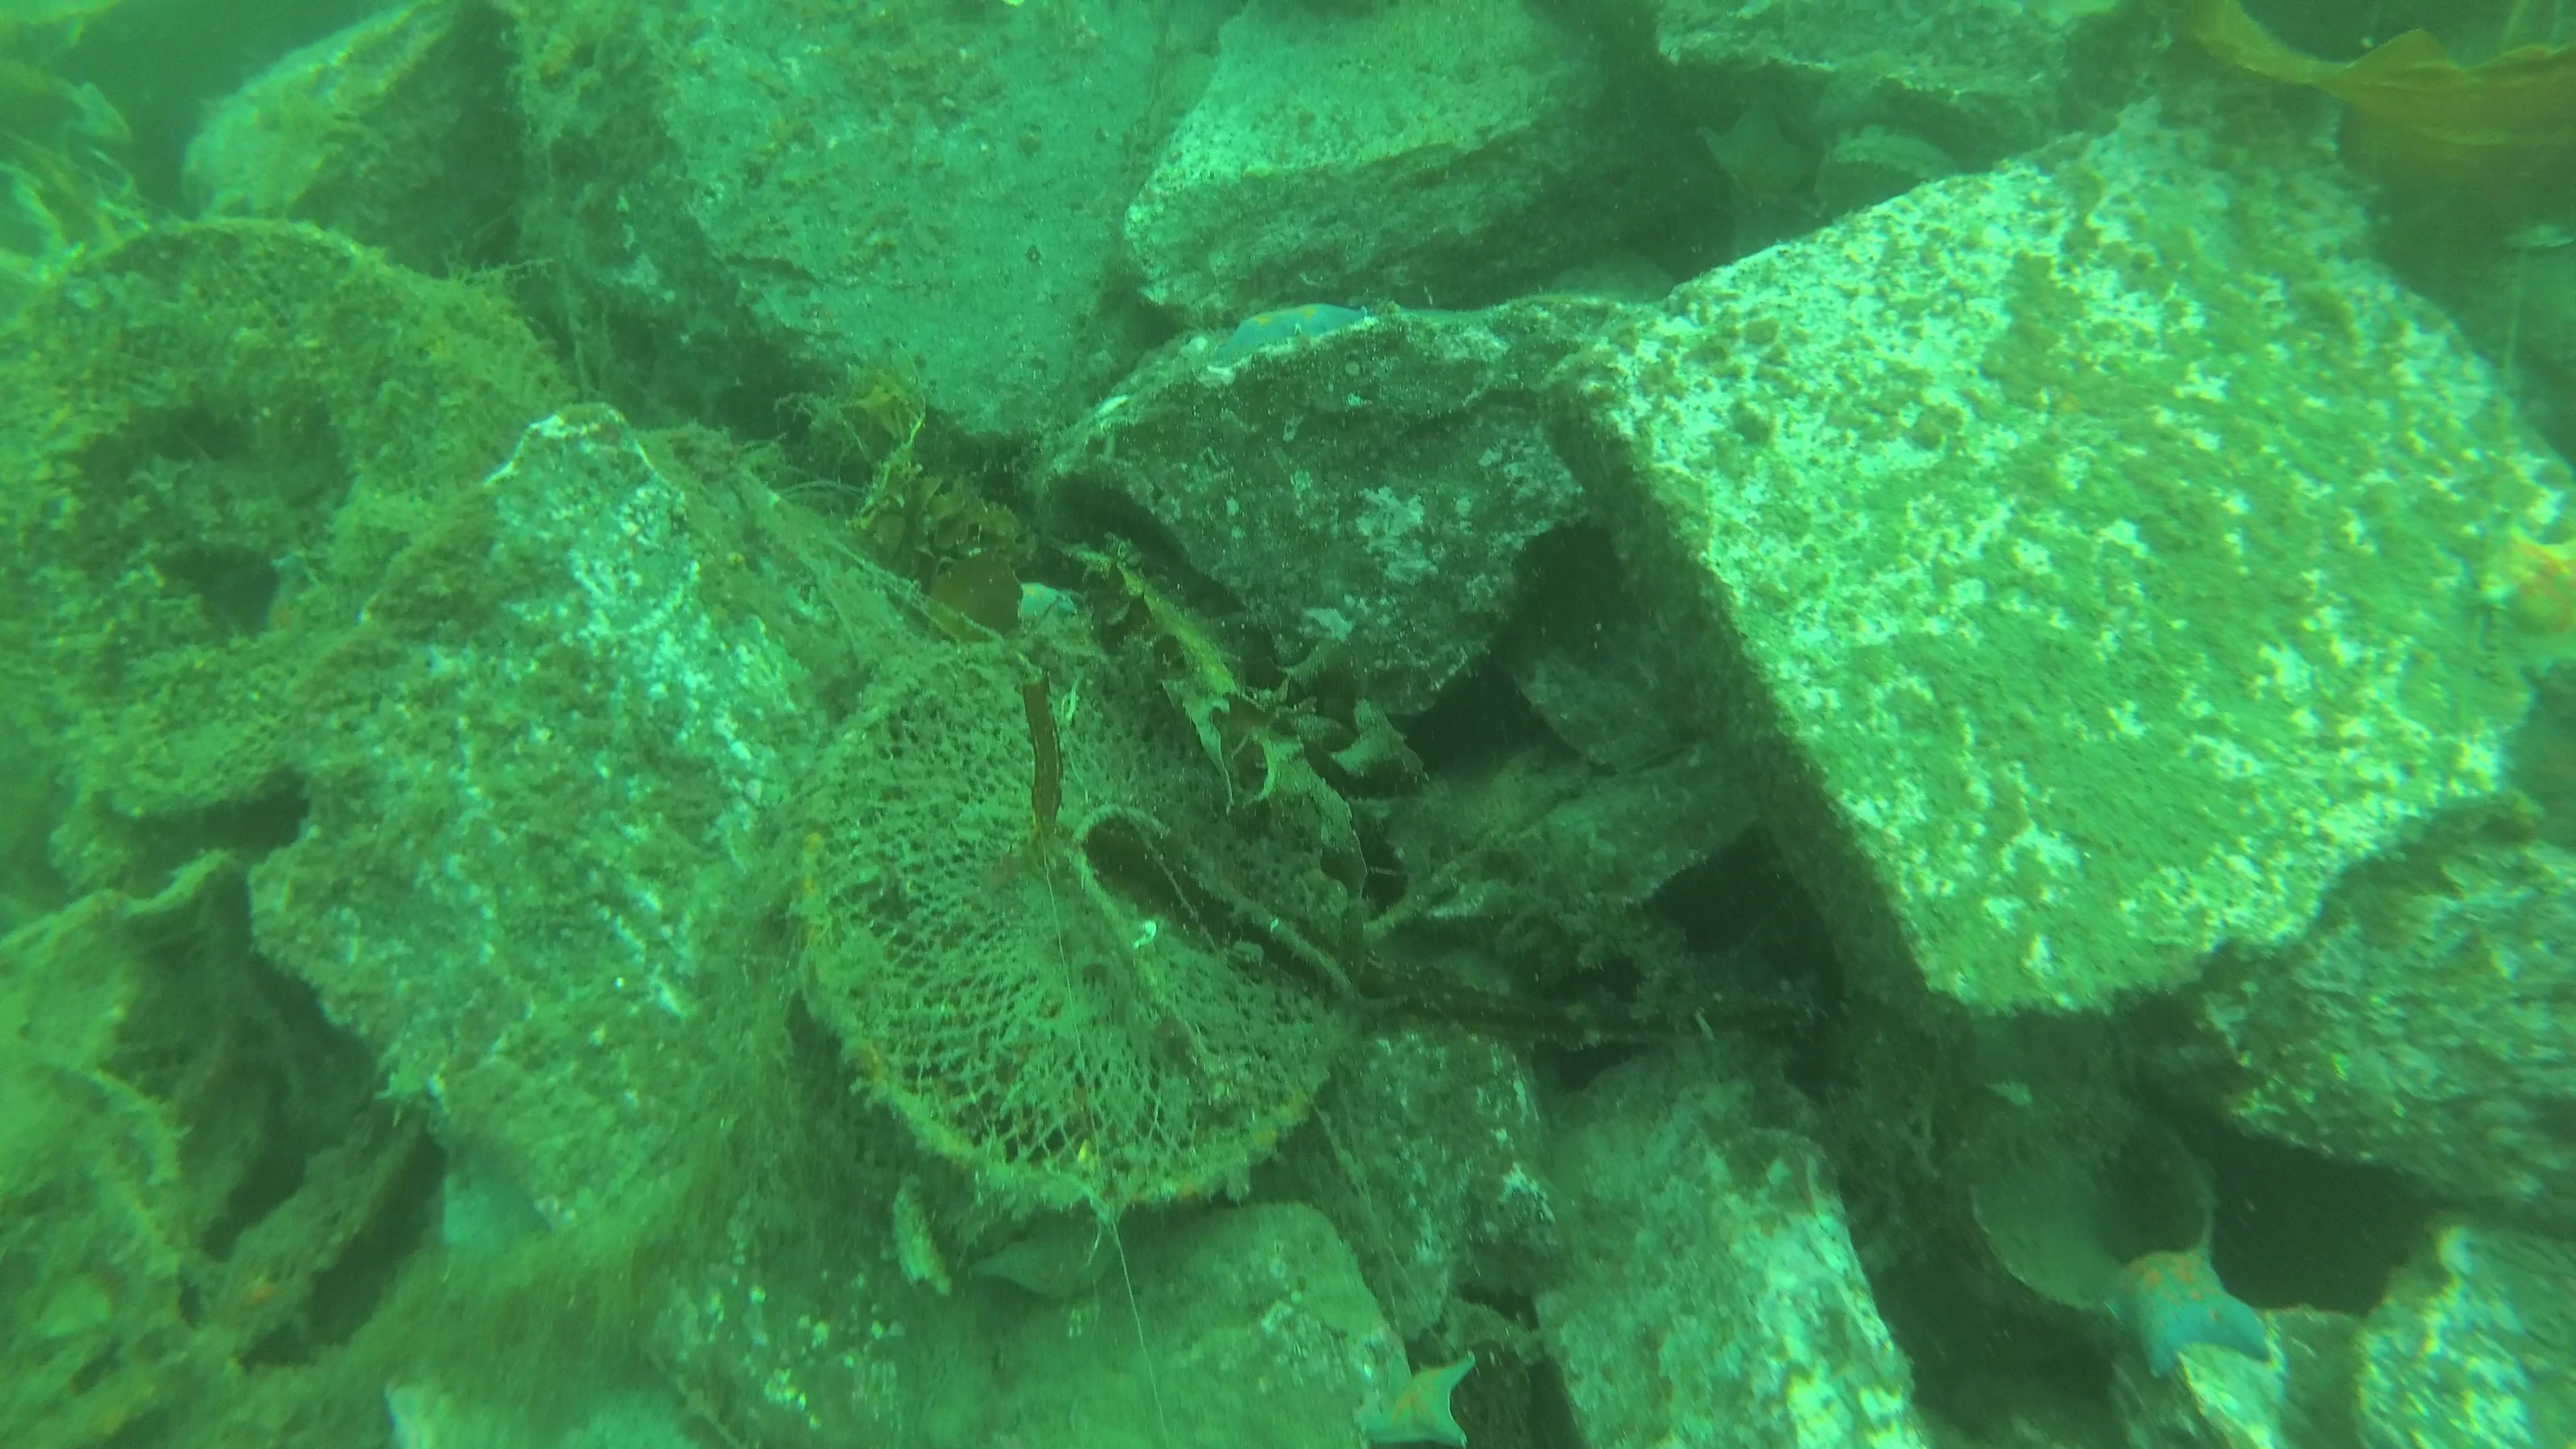starfish: (2077, 1233, 2273, 1378), (2472, 506, 2576, 683), (1697, 94, 1819, 218), (1350, 1346, 1474, 1449), (1210, 303, 1373, 377), (1005, 577, 1083, 619)
